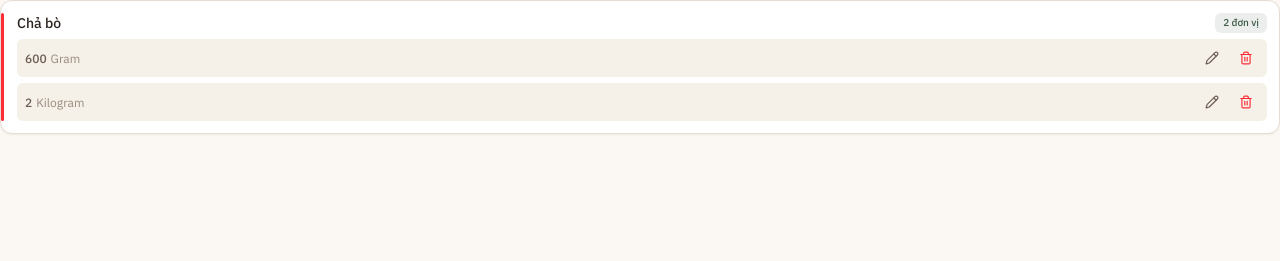
it: PantryItem grouped units › requires a positive quantity and explains that values are not converted
This screenshot has width=1280, height=261.
Click the button named "Sửa Kilogram".
click(1212, 102)  # box x1=1199 y1=89 x2=1225 y2=115
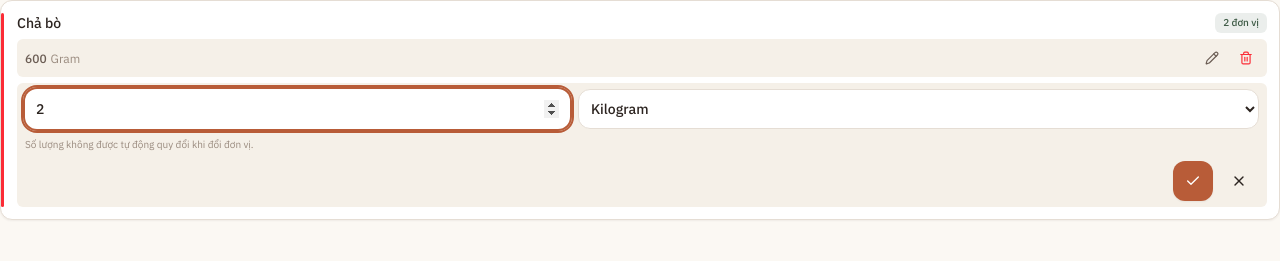
Expected: the dropdown is shown, x1=578 y1=89 x2=1259 y2=129
Expected: the text "Số lượng không được tự động quy đổi khi đổi đơn vị." is shown, x1=25 y1=138 x2=254 y2=151
Replace the text in the number field with "0" at x=297, y=109, box x1=25 y1=89 x2=570 y2=129
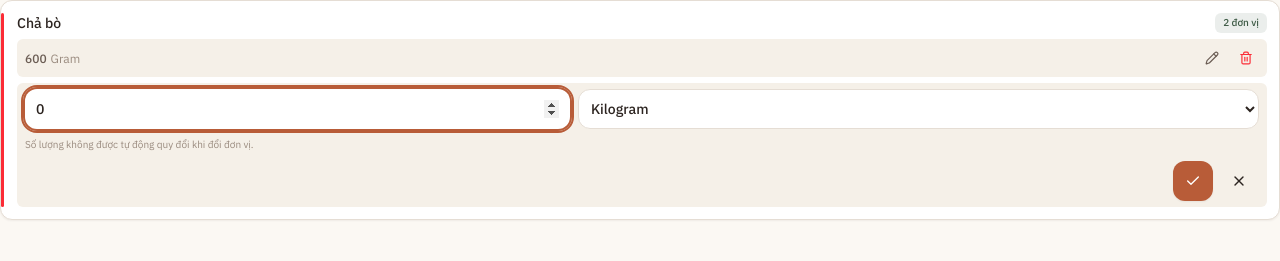
Click the button named "Lưu Kilogram".
click(1193, 181)  # box x1=1173 y1=161 x2=1213 y2=201
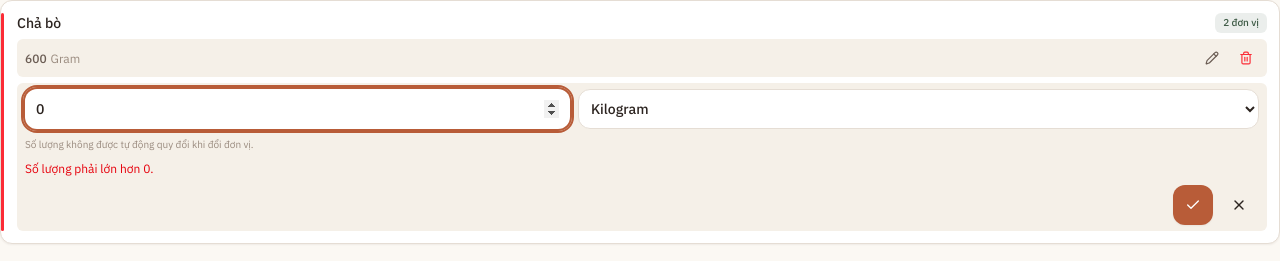
Expected: the text "Số lượng phải lớn hơn 0." is shown, x1=25 y1=161 x2=154 y2=176
